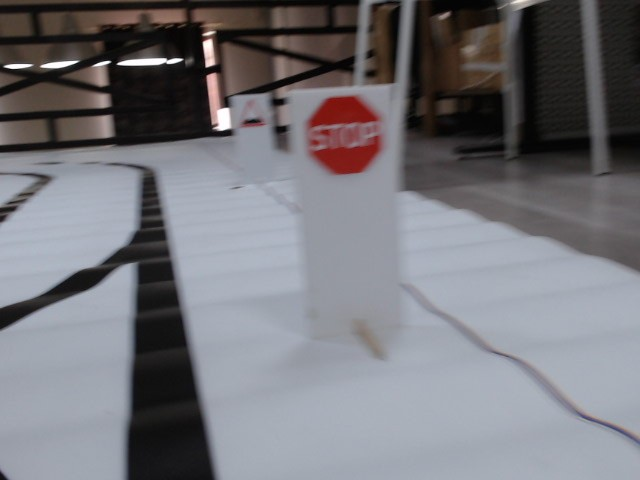Nerov: (238, 97, 269, 129)
Stop: (304, 95, 386, 171)
